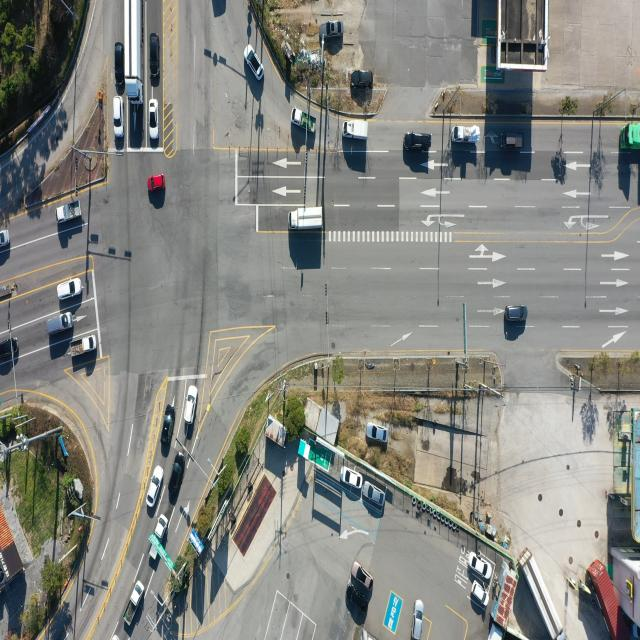car: (168, 454, 185, 505), (146, 465, 163, 507), (46, 311, 73, 336), (347, 584, 369, 613), (243, 46, 261, 81), (352, 562, 374, 590), (162, 407, 175, 454), (404, 133, 433, 153), (57, 278, 82, 301), (471, 553, 492, 580), (183, 385, 197, 425), (363, 483, 385, 508), (149, 32, 159, 80), (342, 466, 363, 488), (115, 94, 126, 136), (471, 582, 488, 608), (413, 600, 424, 640), (366, 423, 388, 442), (115, 42, 124, 88), (148, 98, 158, 138), (506, 306, 528, 324), (352, 69, 374, 87), (0, 336, 18, 358), (324, 21, 343, 37), (147, 175, 165, 191), (0, 230, 10, 250)
large_truck: (621, 122, 640, 152)
medium_truck: (524, 548, 564, 638), (126, 0, 144, 98), (289, 206, 325, 232)
small_truck: (147, 513, 169, 564), (126, 578, 146, 625), (70, 335, 98, 358), (56, 201, 82, 224), (290, 108, 314, 132), (451, 126, 479, 144), (343, 121, 367, 141), (501, 133, 523, 150)
